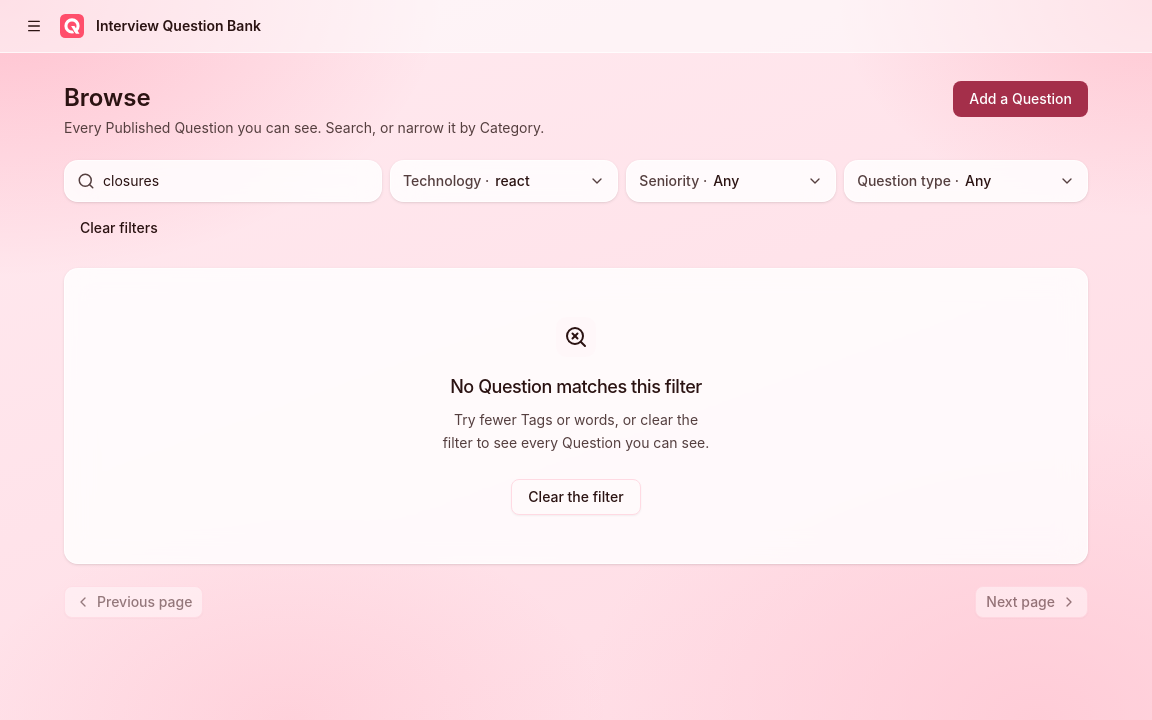
Test case: Browse with a filter that matches nothing › says so, and clearing the filter shows the whole bank
The width and height of the screenshot is (1152, 720).
Expected: the text "Try fewer Tags or words, or clear the filter to see every Question you can see." is shown, [443,411,709,451]
Click the button "Clear the filter" at coordinates (576, 496), box [511,478,641,514]
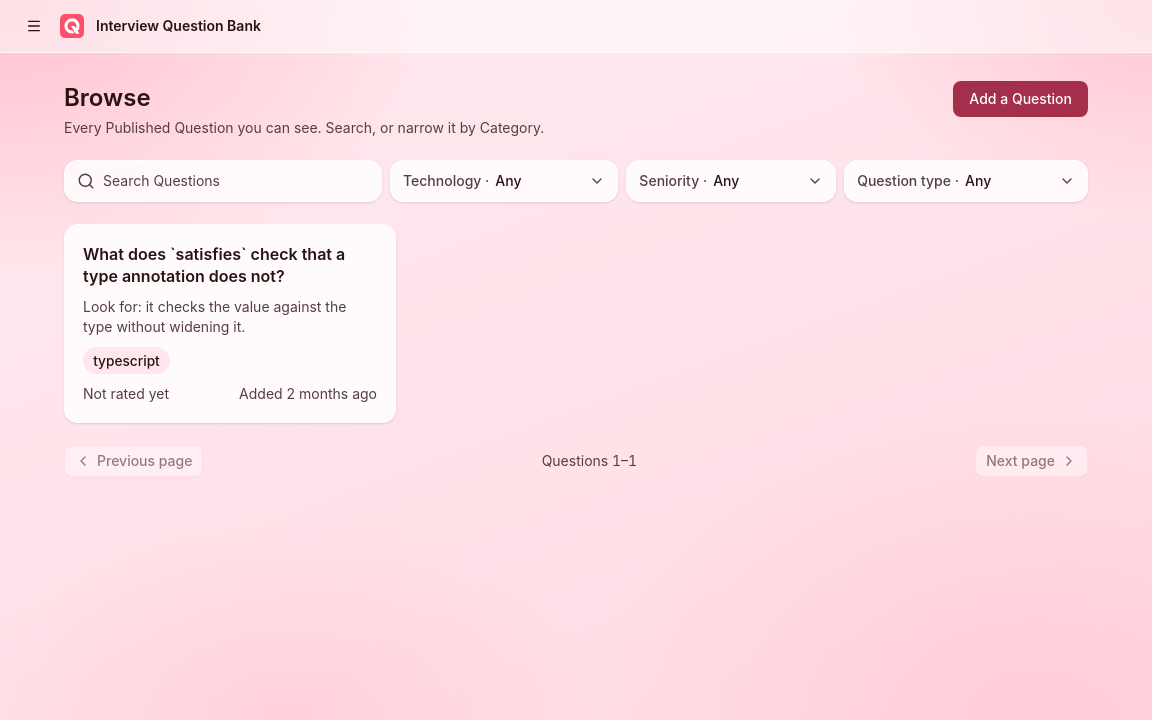
Result: the link "What does `satisfies` check that a type annotation does not?" is shown at [83,244,345,286]
